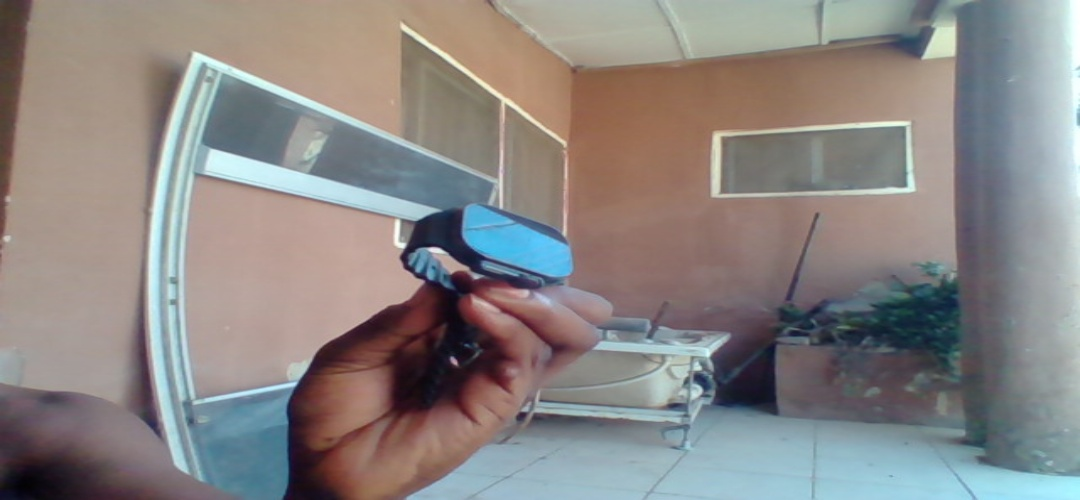smart_watch: (403, 202, 577, 287)
